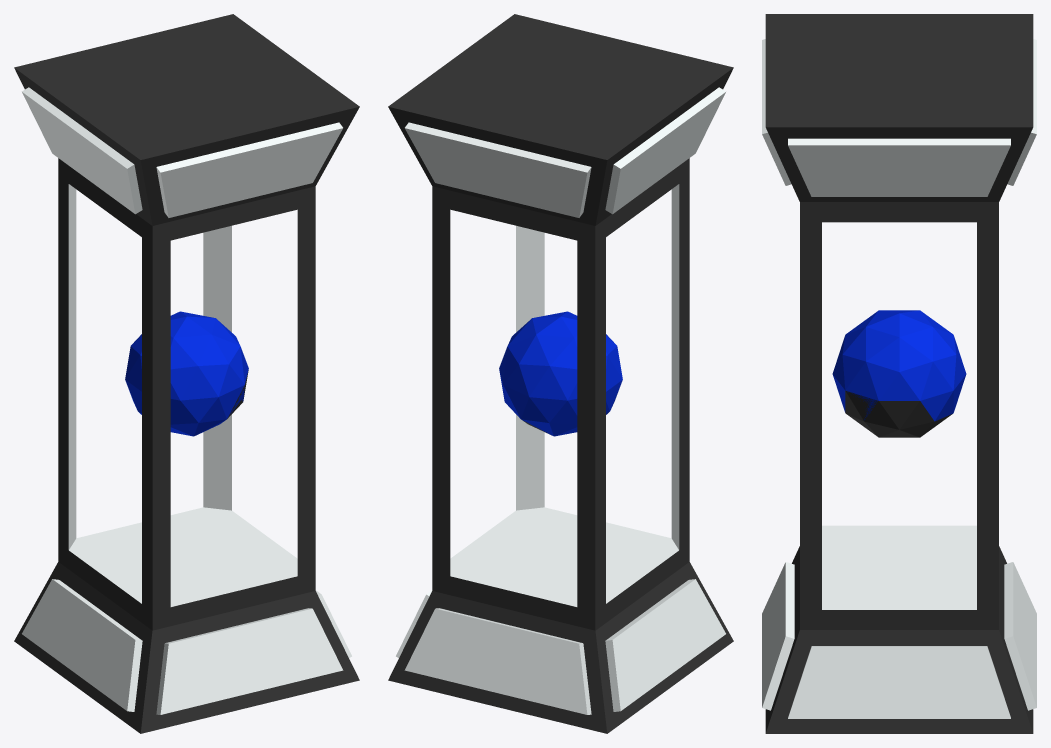
Rendered from pillar.fbx.
The picture shows the model from 3 angles, left to right: view 1: azimuth 30°, elevation 25°; view 2: azimuth 150°, elevation 25°; view 3: azimuth 270°, elevation 25°; orthographic projection. The views are drawn at different scales.
Visible parts, largest first — view 1: Pillar.001, Pillar.002, Pillar, orb_broken, orb; view 2: Pillar.001, Pillar.002, Pillar, orb, orb_broken; view 3: Pillar.001, Pillar.002, Pillar, orb_broken, orb.
Part boxes in pixels (bbox=[...]): Pillar.001: bbox=[14, 14, 359, 535]; Pillar.002: bbox=[58, 229, 359, 724]; Pillar: bbox=[14, 544, 273, 733]; orb_broken: bbox=[125, 318, 248, 436]; orb: bbox=[125, 311, 248, 436]; Pillar.001: bbox=[388, 14, 733, 465]; Pillar.002: bbox=[432, 282, 729, 634]; Pillar: bbox=[388, 580, 733, 733]; orb: bbox=[507, 311, 622, 415]; orb_broken: bbox=[499, 334, 622, 436]; Pillar.001: bbox=[762, 14, 1036, 460]; Pillar.002: bbox=[762, 303, 998, 733]; Pillar: bbox=[775, 546, 1036, 733]; orb_broken: bbox=[832, 327, 966, 437]; orb: bbox=[846, 310, 965, 420].
Bounding box in the file's own units: 411 × 1000 × 411.
